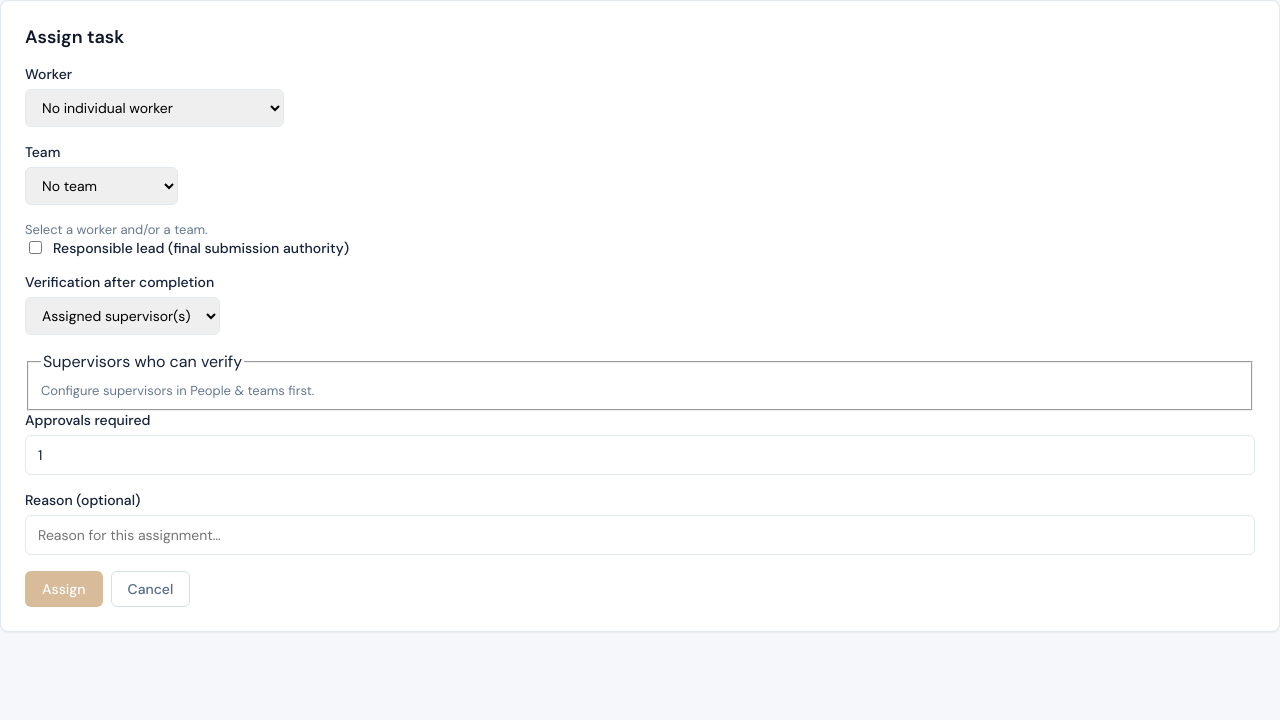
Test case: AssignmentDrawer › surfaces a server error instead of silently closing
This screenshot has width=1280, height=720.
Select "Ada Worker (ada@example.com)" in the dropdown labelled "Worker" at (154,108), box left=25, top=89, right=284, bottom=127
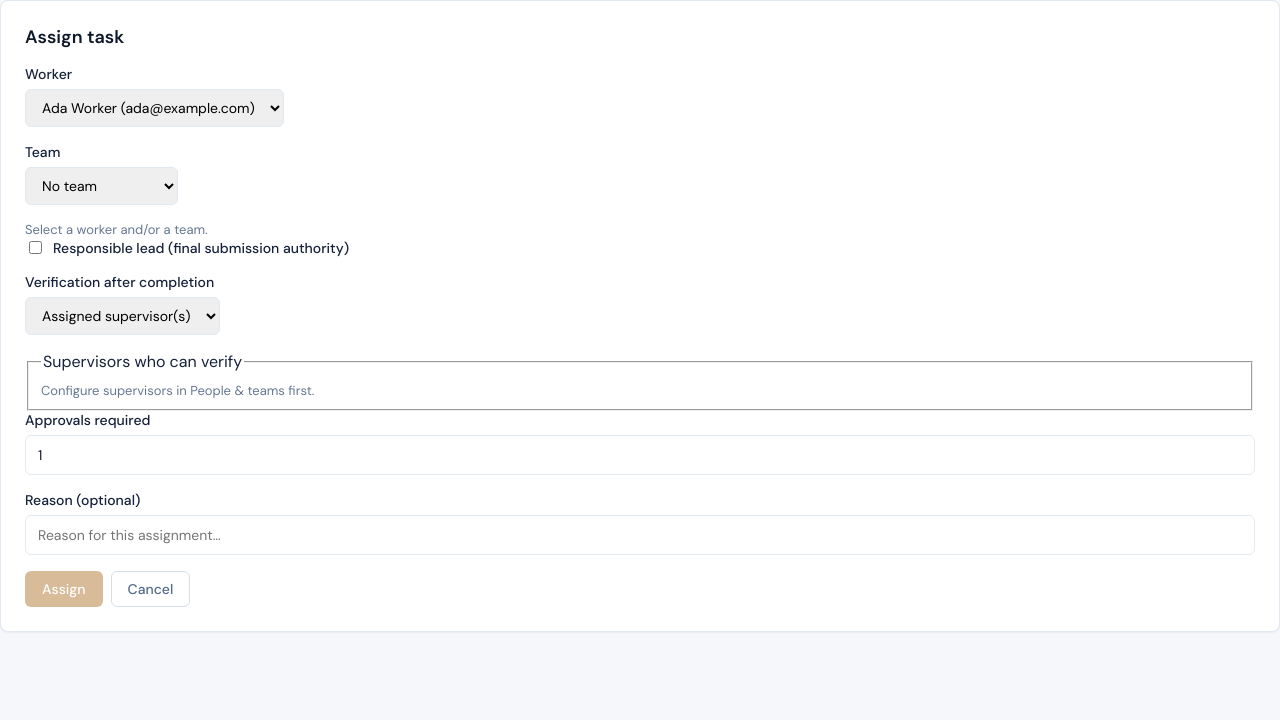
Select "Auto-verify" in the dropdown labelled "Verification after completion" at (122,316), box left=25, top=297, right=220, bottom=335
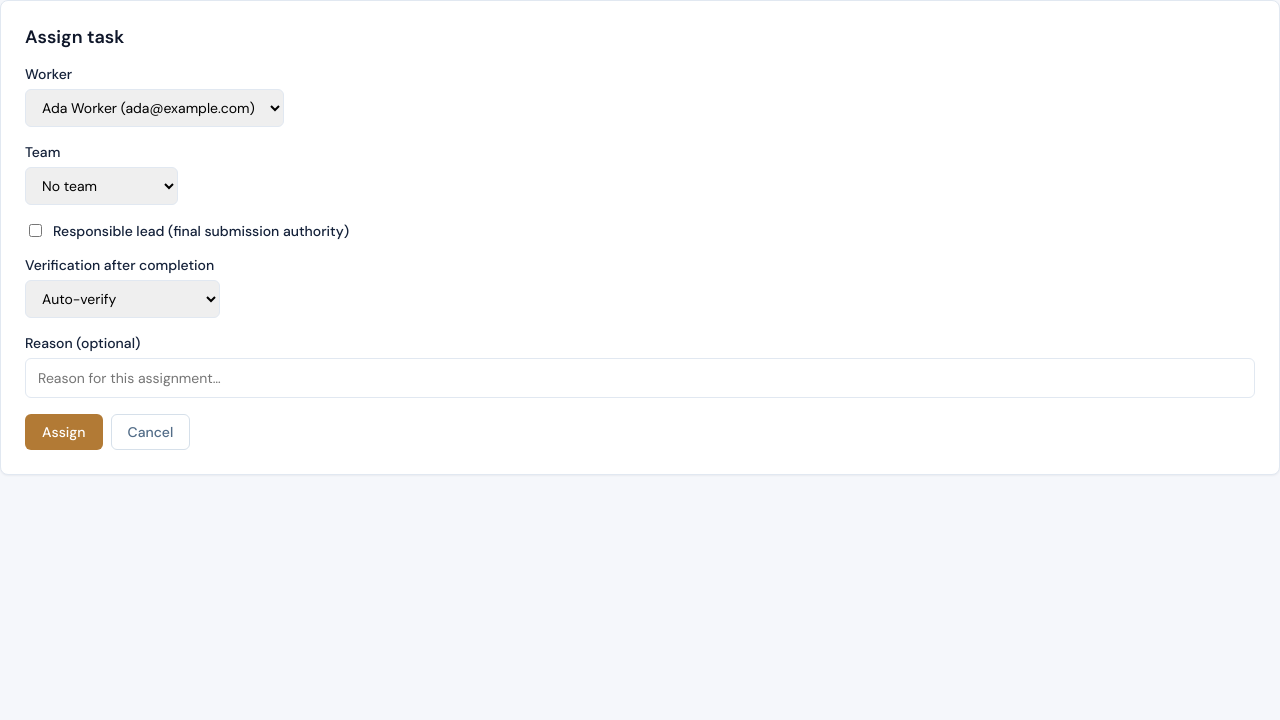
Click the button "Assign".
click(64, 432)  # box left=25, top=414, right=102, bottom=450
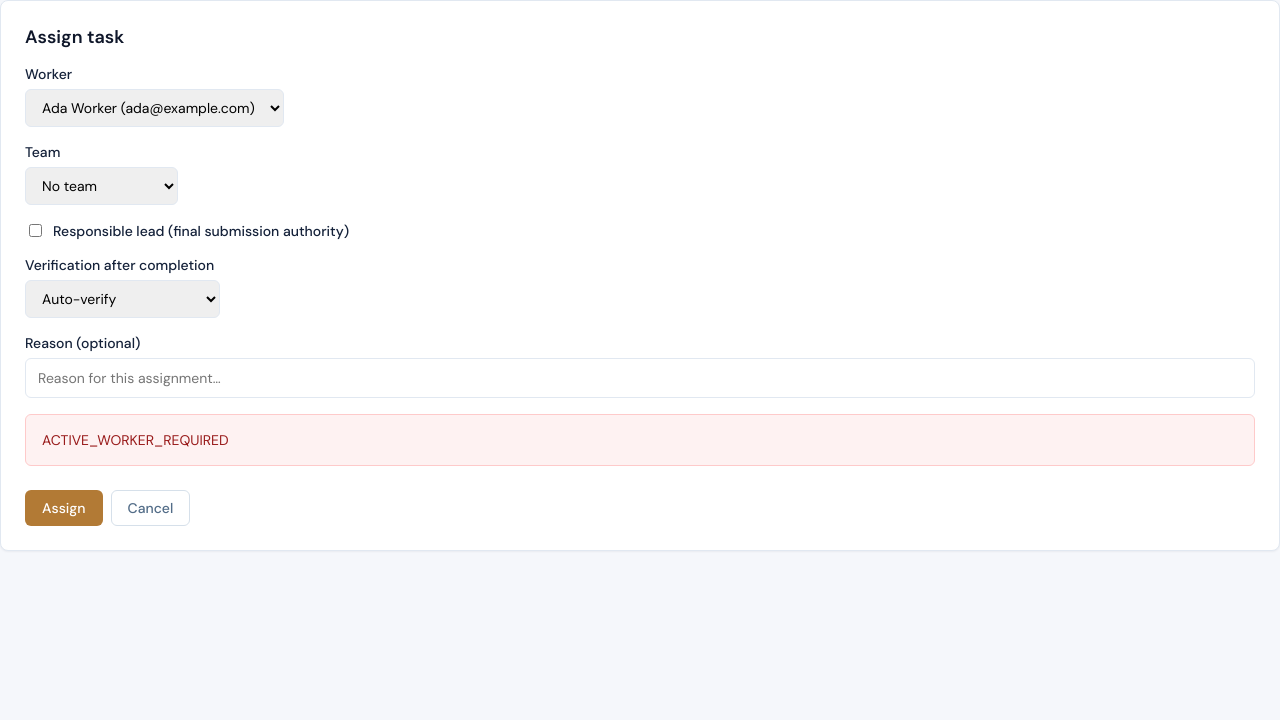
Result: the text "ACTIVE_WORKER_REQUIRED" is shown at left=25, top=414, right=1255, bottom=466
